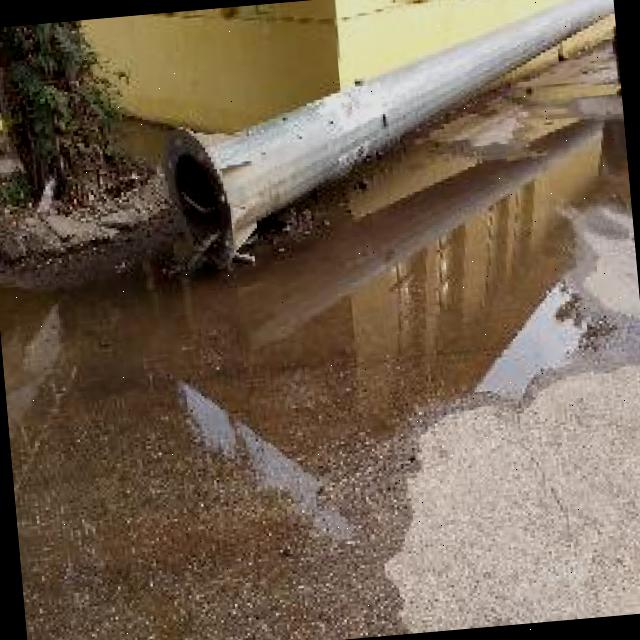stagnation: (4, 80, 640, 640)
